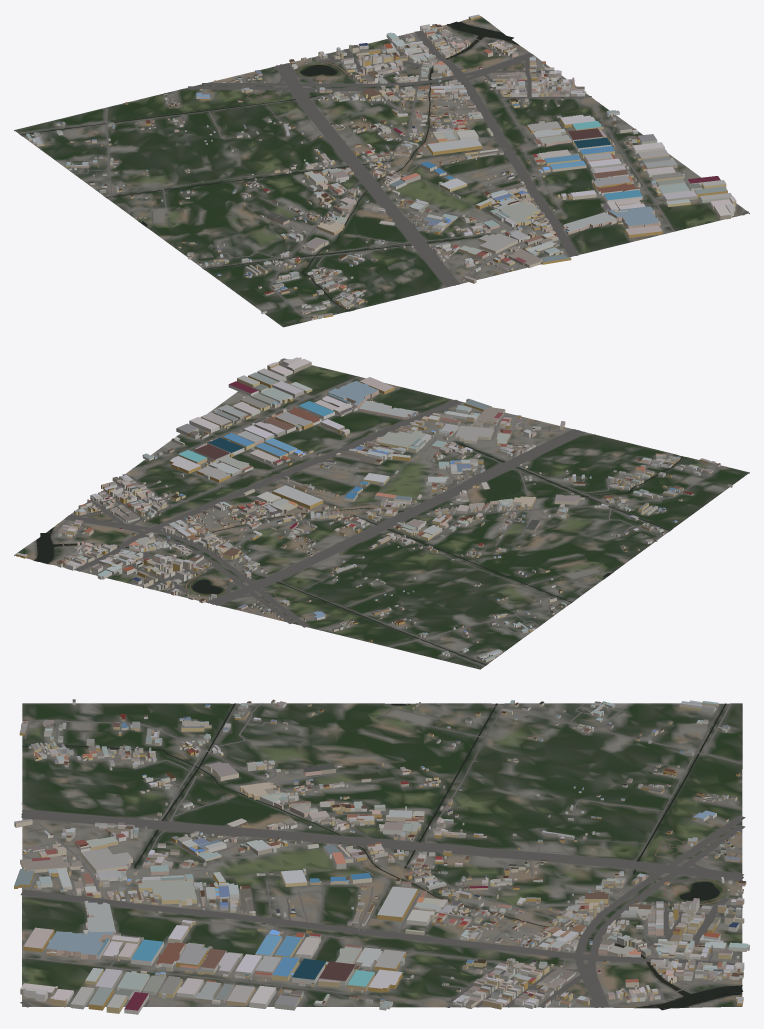
The picture shows the model from 3 angles, top to bottom: view 1: azimuth 30°, elevation 25°; view 2: azimuth 150°, elevation 25°; view 3: azimuth 270°, elevation 25°; orthographic projection. The views are drawn at different scales.
Parts seen in each view (by area): view 1: ground, buildings, roads, water; view 2: ground, buildings, roads, water; view 3: ground, buildings, roads, water.
Part boxes in pixels (left/top/right/bottom): ground: left=14, top=16, right=749, bottom=327; buildings: left=26, top=14, right=736, bottom=319; roads: left=18, top=30, right=748, bottom=321; water: left=20, top=21, right=519, bottom=311; ground: left=14, top=358, right=749, bottom=669; buildings: left=15, top=357, right=732, bottom=662; roads: left=54, top=359, right=724, bottom=666; water: left=34, top=441, right=683, bottom=665; ground: left=22, top=703, right=742, bottom=1008; buildings: left=14, top=699, right=749, bottom=1014; roads: left=20, top=703, right=745, bottom=1007; water: left=22, top=703, right=742, bottom=1010.
Size of the model in its own units: 1440 by 28.39 by 1431.
